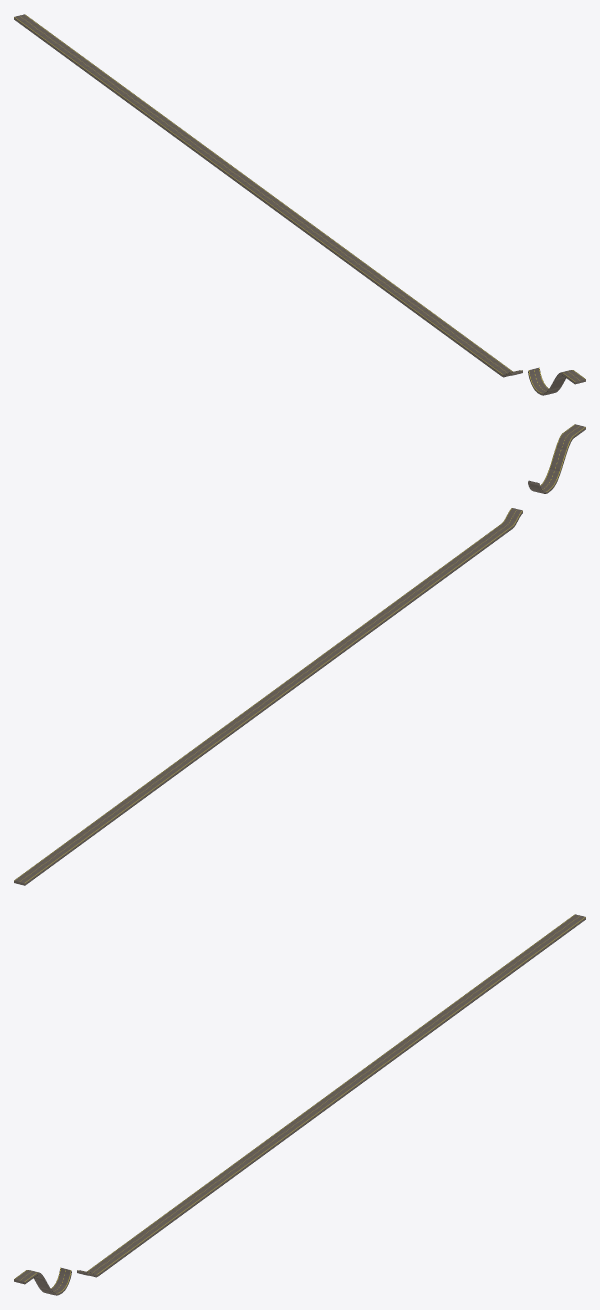
The model's file is track.glb.
3 views of the same model, one above another, from view 1: azimuth 30°, elevation 25°; view 2: azimuth 150°, elevation 25°; view 3: azimuth 330°, elevation 25° (orthographic).
Visible parts, largest first — view 1: Road, Road.001; view 2: Road, Road.001; view 3: Road, Road.001.
Part boxes in pixels (bbox=[...]): Road: bbox=[14, 14, 522, 377]; Road.001: bbox=[528, 367, 585, 395]; Road: bbox=[14, 508, 522, 885]; Road.001: bbox=[528, 424, 585, 493]; Road: bbox=[77, 914, 585, 1277]; Road.001: bbox=[14, 1267, 71, 1295].
Size of the model in its own units: 10.18 by 42.24 by 890.
Materials: 2 (1 with a texture image).
